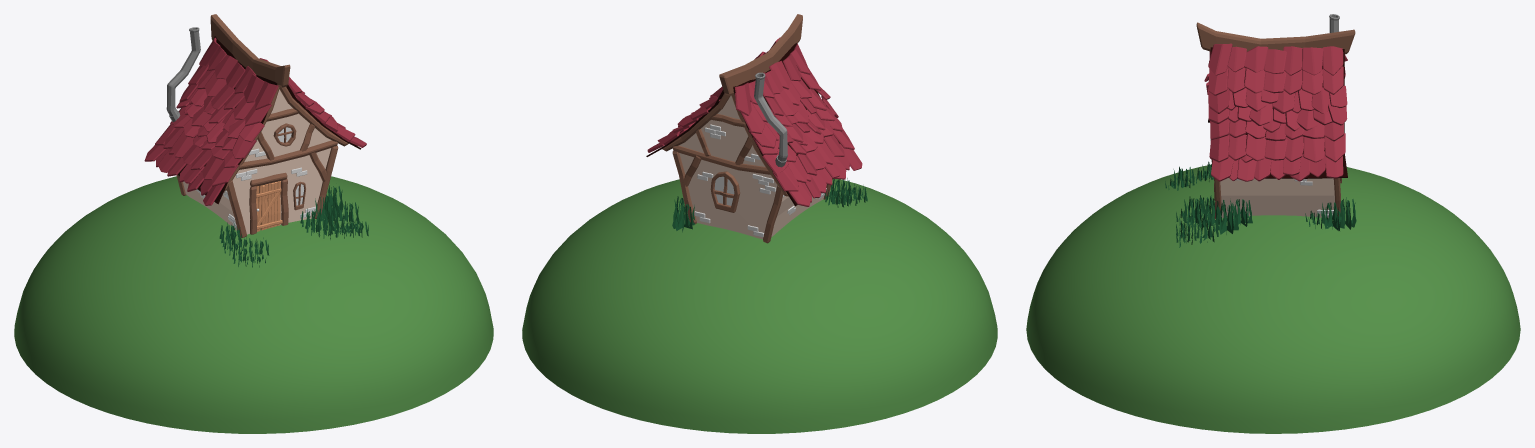
File: cottage home lvl2 .fbx
The picture shows the model from 3 angles, left to right: view 1: azimuth 30°, elevation 25°; view 2: azimuth 150°, elevation 25°; view 3: azimuth 270°, elevation 25°; orthographic projection. The views are drawn at different scales.
Parts seen in each view (by area): view 1: Sphere, Cube.086, Cube.024, Plane.003, Plane.005, Cube.020, Cylinder, Plane.002; view 2: Sphere, Cube.086, Plane.001, Cube.024, Plane.005, Cylinder, Plane.003, Plane.002, Plane.006; view 3: Sphere, Cube.086, Plane.005, Plane.003, Cube.024.
Boxes of the visible parts, x1=… form: Sphere: x1=14, y1=176, x2=493, y2=433; Cube.086: x1=144, y1=37, x2=366, y2=205; Cube.024: x1=176, y1=14, x2=348, y2=237; Plane.003: x1=183, y1=89, x2=331, y2=234; Plane.005: x1=219, y1=185, x2=368, y2=267; Cube.020: x1=256, y1=181, x2=282, y2=231; Cylinder: x1=166, y1=27, x2=200, y2=122; Plane.002: x1=177, y1=36, x2=361, y2=204; Sphere: x1=522, y1=178, x2=997, y2=433; Cube.086: x1=647, y1=37, x2=862, y2=206; Plane.001: x1=679, y1=95, x2=777, y2=239; Cube.024: x1=662, y1=14, x2=832, y2=243; Plane.005: x1=672, y1=178, x2=867, y2=232; Cylinder: x1=754, y1=72, x2=787, y2=167; Plane.003: x1=771, y1=196, x2=823, y2=236; Plane.002: x1=646, y1=43, x2=849, y2=206; Plane.006: x1=710, y1=171, x2=740, y2=212; Sphere: x1=1026, y1=164, x2=1520, y2=433; Cube.086: x1=1204, y1=43, x2=1347, y2=181; Plane.005: x1=1165, y1=161, x2=1356, y2=247; Plane.003: x1=1220, y1=178, x2=1334, y2=217; Cube.024: x1=1196, y1=22, x2=1355, y2=219.
Size of the model in its own units: 679 by 461 by 679.
